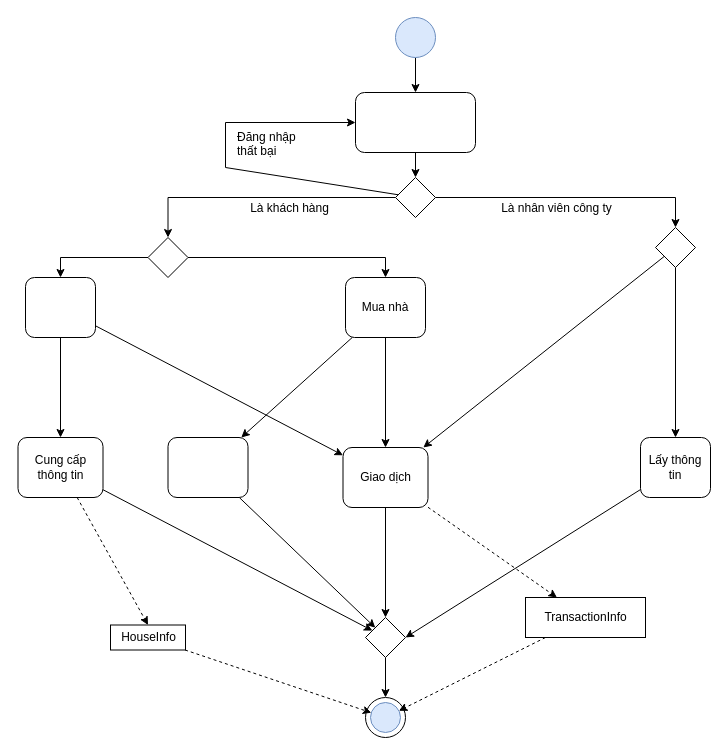
Some shapes in this 728 by 755 pixel diagram are drawn without their labels. The shapes that lost their labels are listed below. From the top down, each one's centre as x and y in pixels, then its label:
At pixel 415 122: "Đăng nhập".
At pixel 60 307: "Bán nhà".
At pixel 207 467: "Tìm kiếm thông tin".
